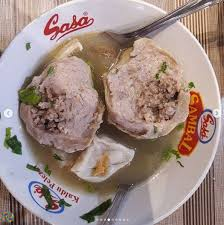bakso: (19, 36, 207, 183)
